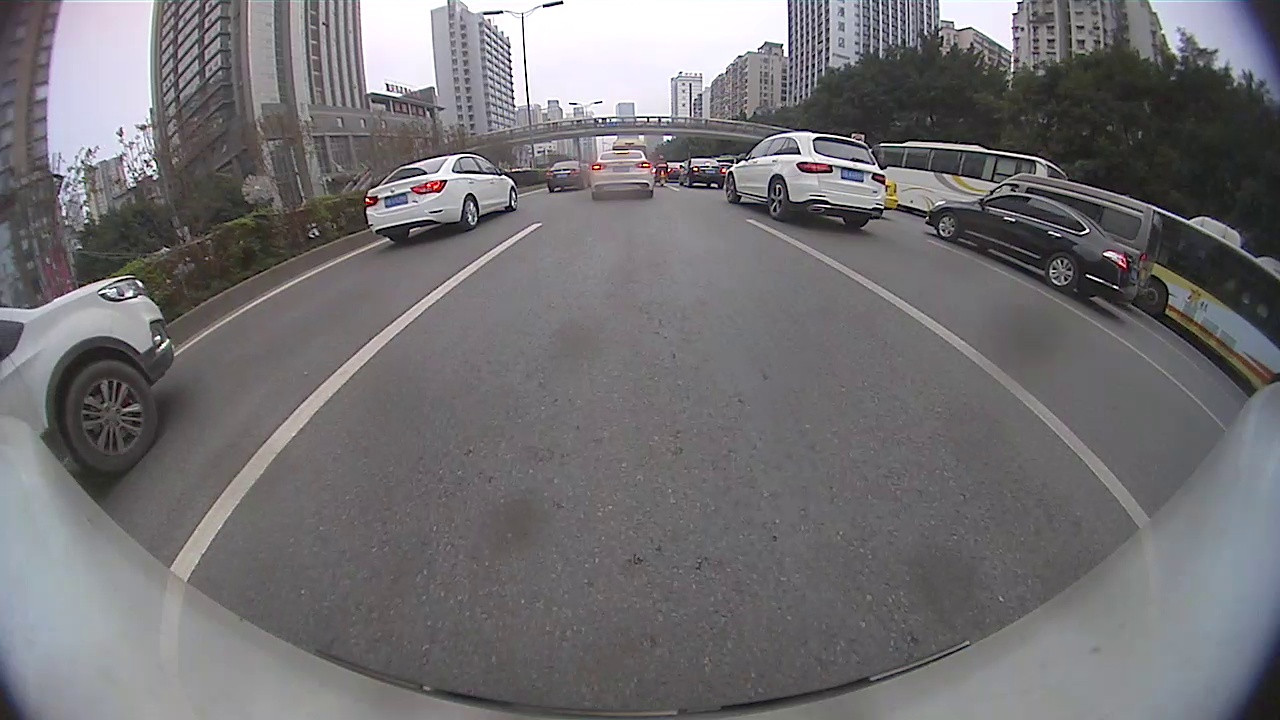bus: (1102, 195, 1277, 393), (873, 139, 1071, 217)
car: (0, 275, 176, 478), (929, 190, 1144, 304), (979, 172, 1157, 300), (726, 130, 889, 230), (369, 148, 517, 245), (594, 150, 659, 201), (546, 159, 593, 188), (683, 159, 726, 187)
front: (64, 358, 159, 472), (1134, 279, 1169, 317), (935, 211, 961, 241), (724, 170, 739, 204), (507, 186, 520, 211)
rear: (1042, 251, 1080, 290), (766, 178, 791, 221), (461, 196, 479, 231)
